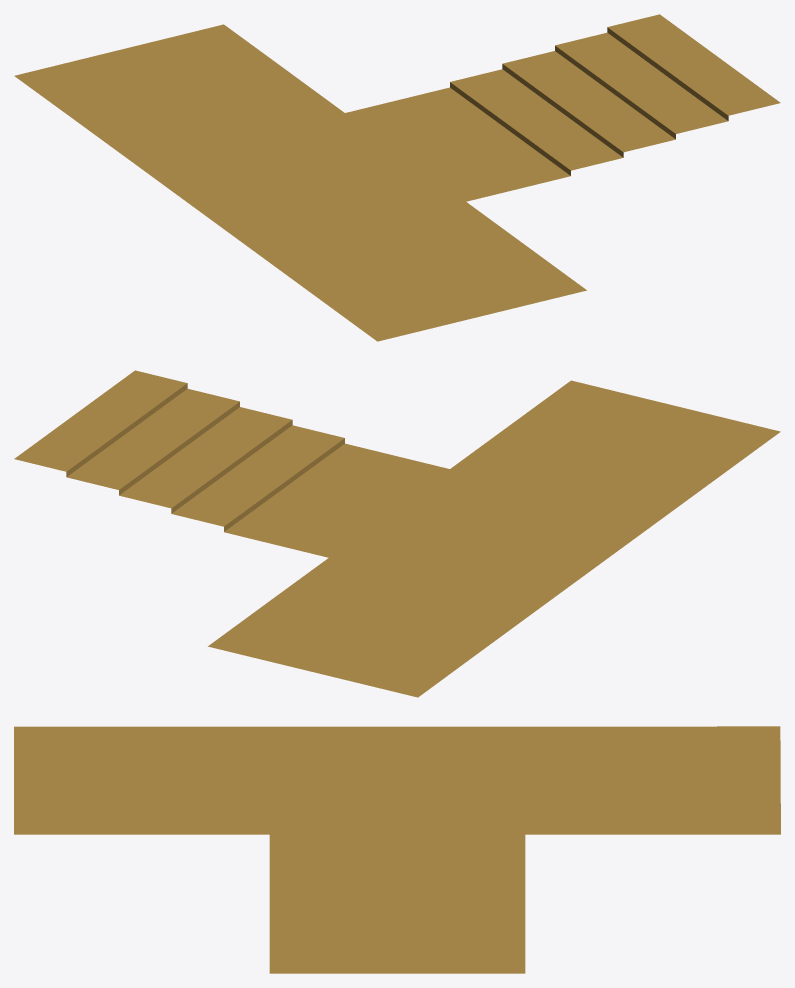
The model's file is floor2.glb.
3 renders of one model, top to bottom at view 1: azimuth 30°, elevation 25°; view 2: azimuth 150°, elevation 25°; view 3: azimuth 270°, elevation 25°, orthographic. The views are drawn at different scales.
Parts seen in each view (by area): view 1: Floor; view 2: Floor; view 3: Floor.
Part boxes in pixels (box(x1,y1,x2,y2)): Floor: box(14, 14, 780, 341); Floor: box(14, 370, 780, 697); Floor: box(14, 726, 780, 973).
Size of the model in its own units: 50.03 by 2 by 60.
